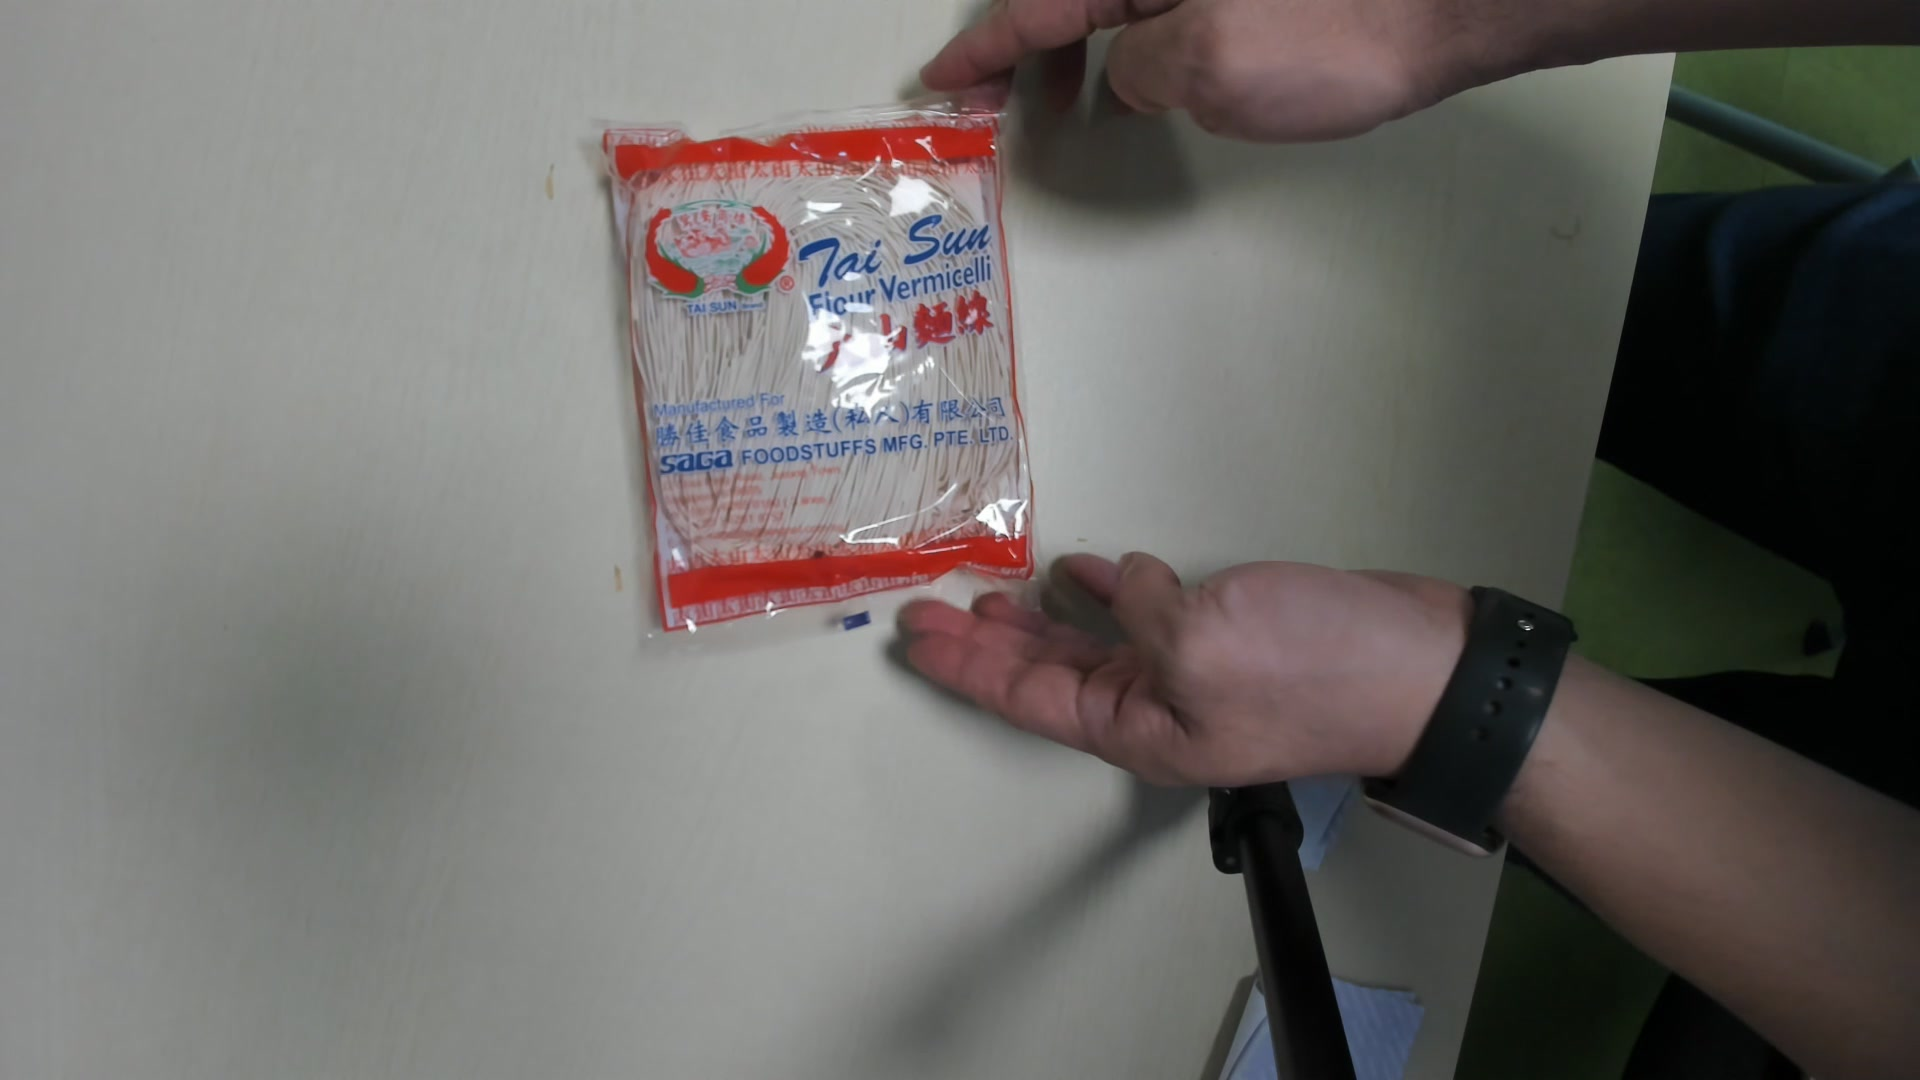BeeHoonVermicelli_100-199g_Halal_NonHealthy: (596, 88, 1040, 641)
